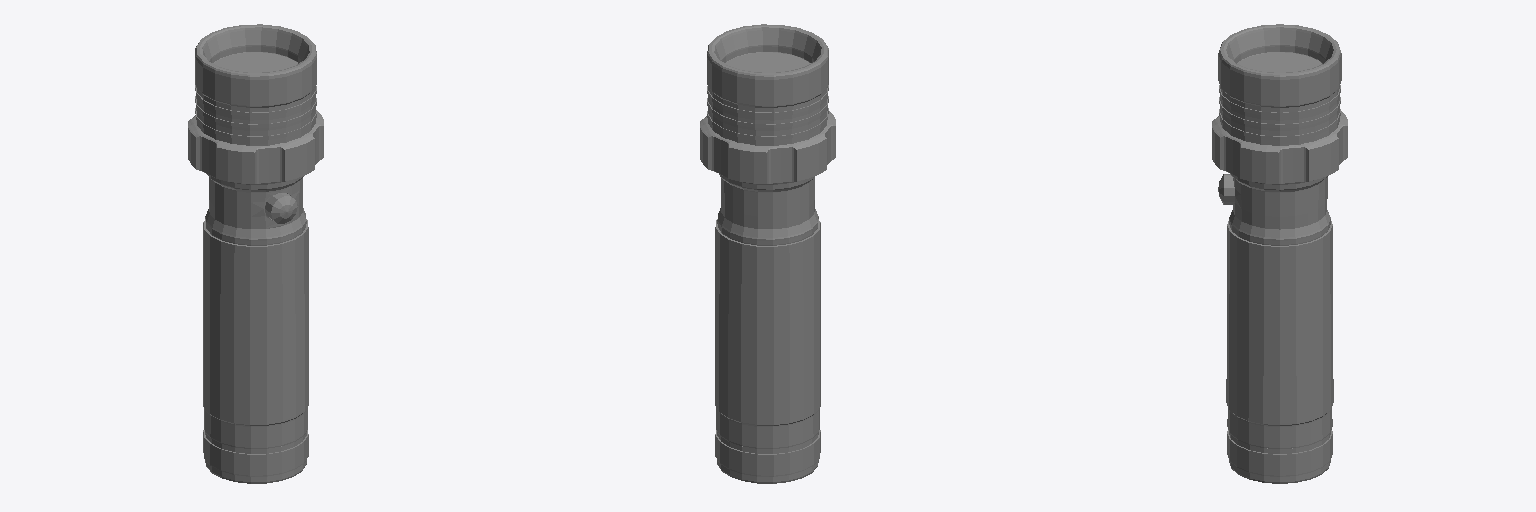
The model's file is Lamp-obj.obj.
3 renders of one model, left to right at view 1: azimuth 30°, elevation 25°; view 2: azimuth 150°, elevation 25°; view 3: azimuth 270°, elevation 25°, orthographic.
Parts seen in each view (by area): view 1: Lampa, Glass, Button; view 2: Lampa, Glass; view 3: Lampa, Glass.
Part boxes in pixels (x1,y1,x2,y2): Lampa: (188, 24, 323, 483); Glass: (213, 52, 297, 72); Button: (265, 193, 297, 223); Lampa: (700, 24, 835, 483); Glass: (726, 52, 810, 72); Lampa: (1212, 24, 1347, 483); Glass: (1238, 52, 1321, 72).
Size of the model in its own units: 4.39 by 14.63 by 4.37.